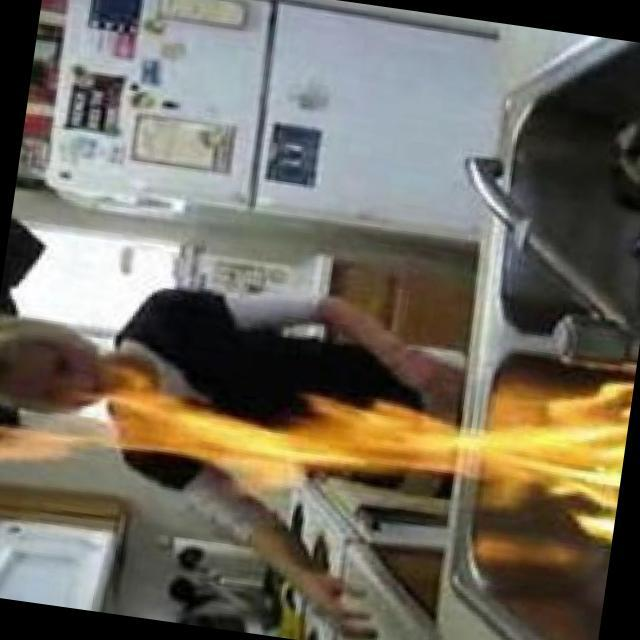Fire: (94, 304, 636, 542)
